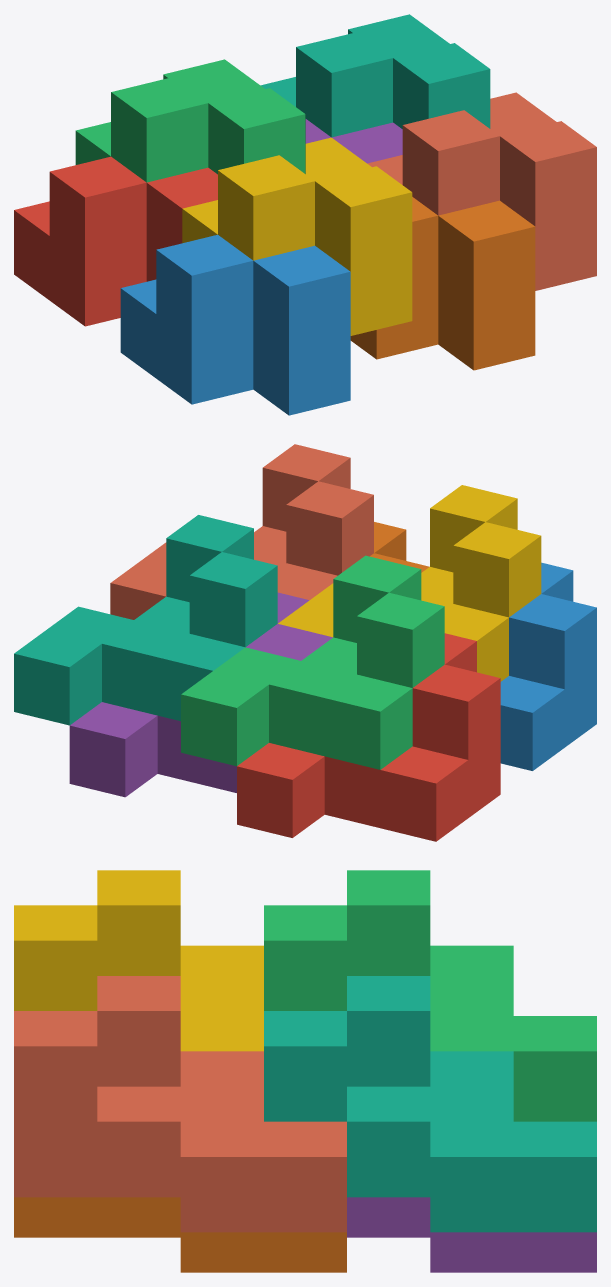
File: tiling.obj
The picture shows the model from 3 angles, top to bottom: view 1: azimuth 30°, elevation 25°; view 2: azimuth 150°, elevation 25°; view 3: azimuth 270°, elevation 25°; orthographic projection. The views are drawn at different scales.
Visible parts, largest first — view 1: copy_1_domain_2, copy_1_domain_4, copy_1_domain_8, copy_1_domain_1, copy_1_domain_6, copy_1_domain_3, copy_1_domain_7, copy_1_domain_5; view 2: copy_1_domain_3, copy_1_domain_7, copy_1_domain_1, copy_1_domain_4, copy_1_domain_8, copy_1_domain_2, copy_1_domain_5, copy_1_domain_6; view 3: copy_1_domain_8, copy_1_domain_7, copy_1_domain_3, copy_1_domain_4, copy_1_domain_6, copy_1_domain_5.
Boxes of the visible parts, bbox=[...] form: copy_1_domain_2: bbox=[120, 234, 350, 415]; copy_1_domain_4: bbox=[182, 137, 412, 335]; copy_1_domain_8: bbox=[367, 92, 596, 290]; copy_1_domain_1: bbox=[14, 156, 217, 326]; copy_1_domain_6: bbox=[350, 197, 535, 370]; copy_1_domain_3: bbox=[75, 59, 305, 182]; copy_1_domain_7: bbox=[260, 14, 490, 137]; copy_1_domain_5: bbox=[305, 119, 402, 163]; copy_1_domain_3: bbox=[181, 555, 444, 769]; copy_1_domain_7: bbox=[14, 515, 277, 725]; copy_1_domain_1: bbox=[237, 633, 500, 841]; copy_1_domain_4: bbox=[278, 485, 541, 681]; copy_1_domain_8: bbox=[110, 444, 373, 619]; copy_1_domain_2: bbox=[500, 562, 596, 770]; copy_1_domain_5: bbox=[69, 592, 332, 797]; copy_1_domain_6: bbox=[370, 522, 429, 572]; copy_1_domain_8: bbox=[14, 976, 346, 1232]; copy_1_domain_7: bbox=[264, 976, 596, 1232]; copy_1_domain_3: bbox=[264, 870, 596, 1121]; copy_1_domain_4: bbox=[14, 870, 263, 1051]; copy_1_domain_6: bbox=[14, 1197, 346, 1272]; copy_1_domain_5: bbox=[347, 1197, 596, 1272].
Bounding box in the file's own units: 7 × 3 × 7.
